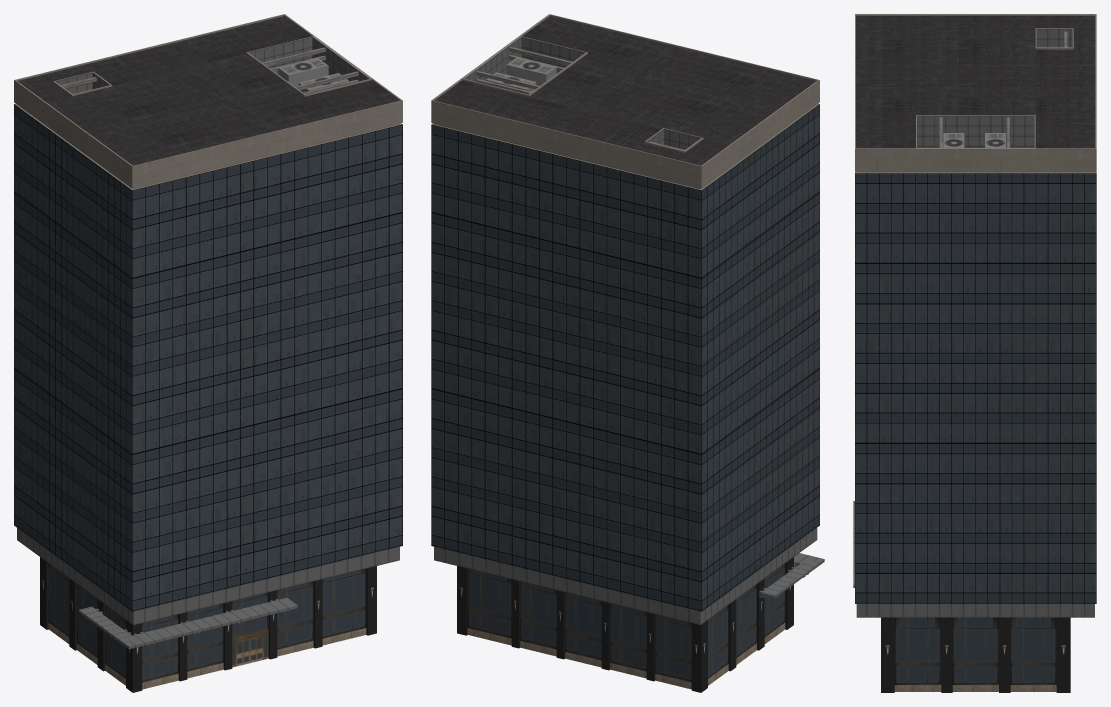
File: 386_wabasha_street_north.glb
3 views of the same model, side by side, from view 1: azimuth 30°, elevation 25°; view 2: azimuth 150°, elevation 25°; view 3: azimuth 270°, elevation 25° (orthographic). The views are drawn at different scales.
Visible parts, largest first — view 1: Object_2; view 2: Object_2; view 3: Object_2.
Part boxes in pixels (bbox=[...]): Object_2: bbox=[14, 14, 402, 692]; Object_2: bbox=[431, 14, 824, 692]; Object_2: bbox=[853, 14, 1096, 692].
Bounding box in the file's own units: 4000 × 7500 × 3000.
Materials: 1 (1 with a texture image).
